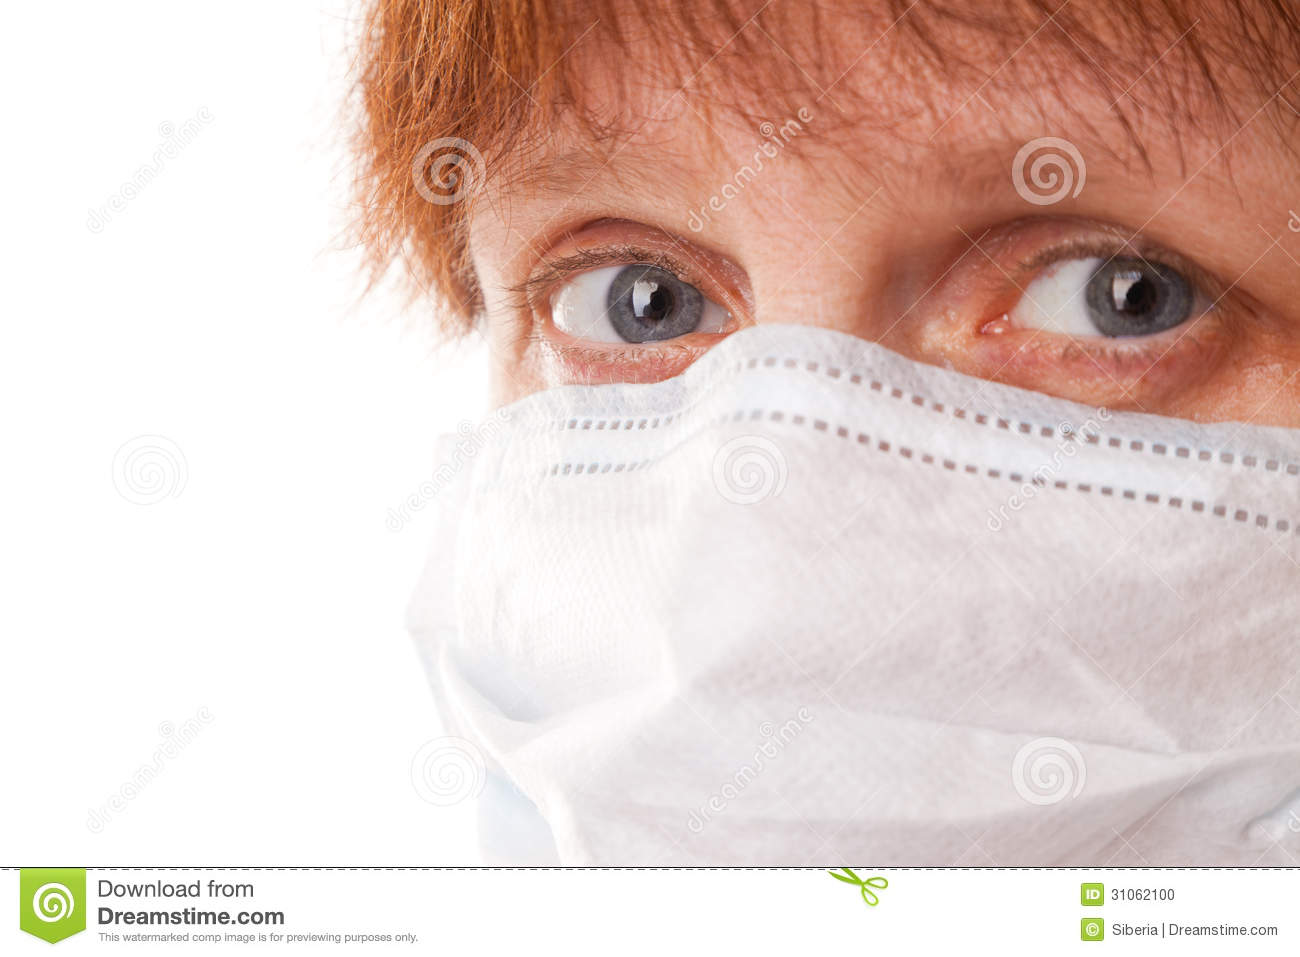mask: (386, 383, 1292, 861)
